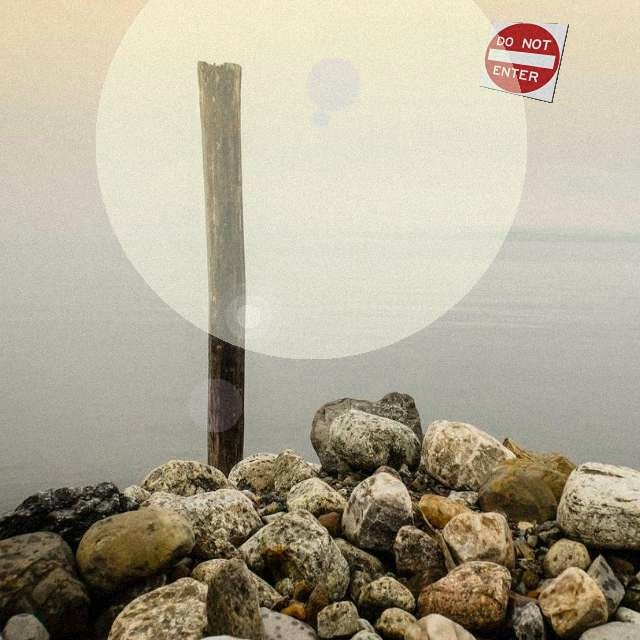DO_NOT_ENTER: (478, 21, 569, 103)
